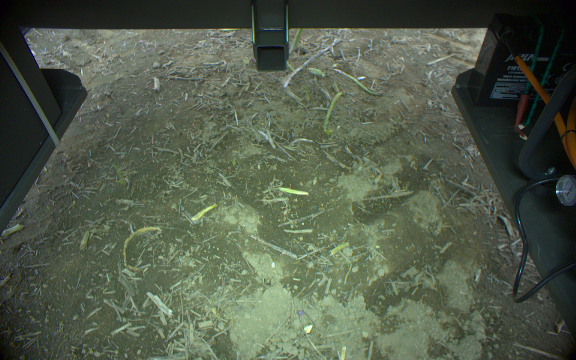aspa: (333, 66, 383, 99), (324, 89, 344, 132), (188, 202, 218, 221), (276, 184, 310, 198), (290, 29, 302, 55)
